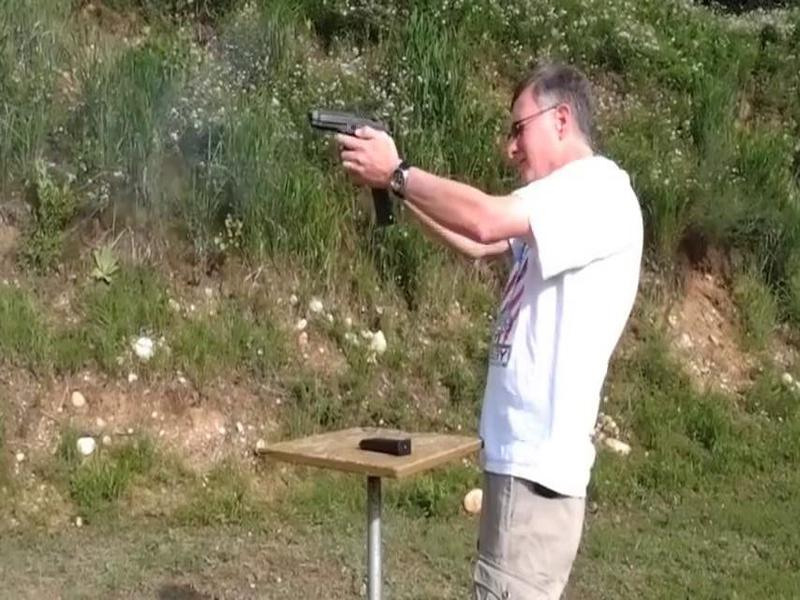Pistola: (281, 94, 403, 200)
